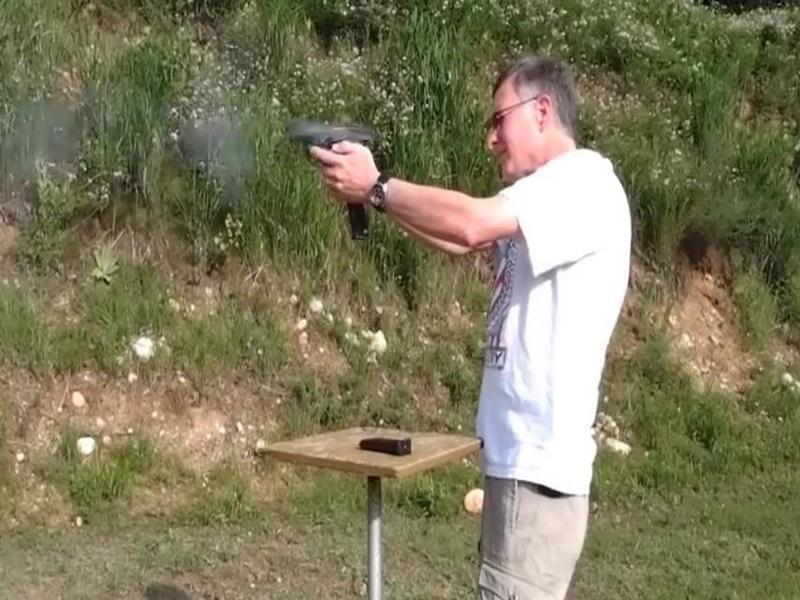Pistola: (276, 112, 393, 206)
